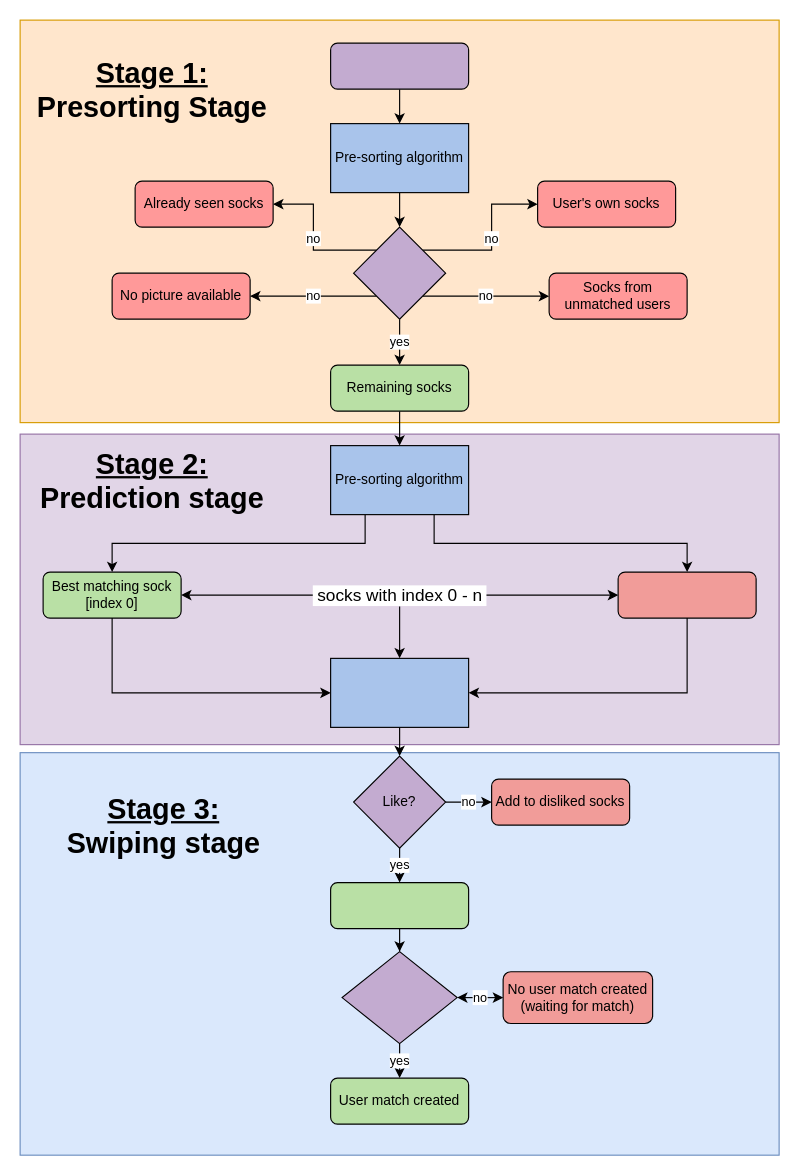
Image size: 799x1175. Some labels were removed from this diagram. Here are the shapes that lost their labels. From the top down, the centre of each, then its label:
At point 399,65: "All socks in database".
At point 399,272: "Is sock suitable?".
At point 686,594: "Worst matching sock [index n]".
At point 399,692: "User shown sock".
At point 399,905: "Add to liked socks".
At point 399,997: "Does the other user like you too?".
